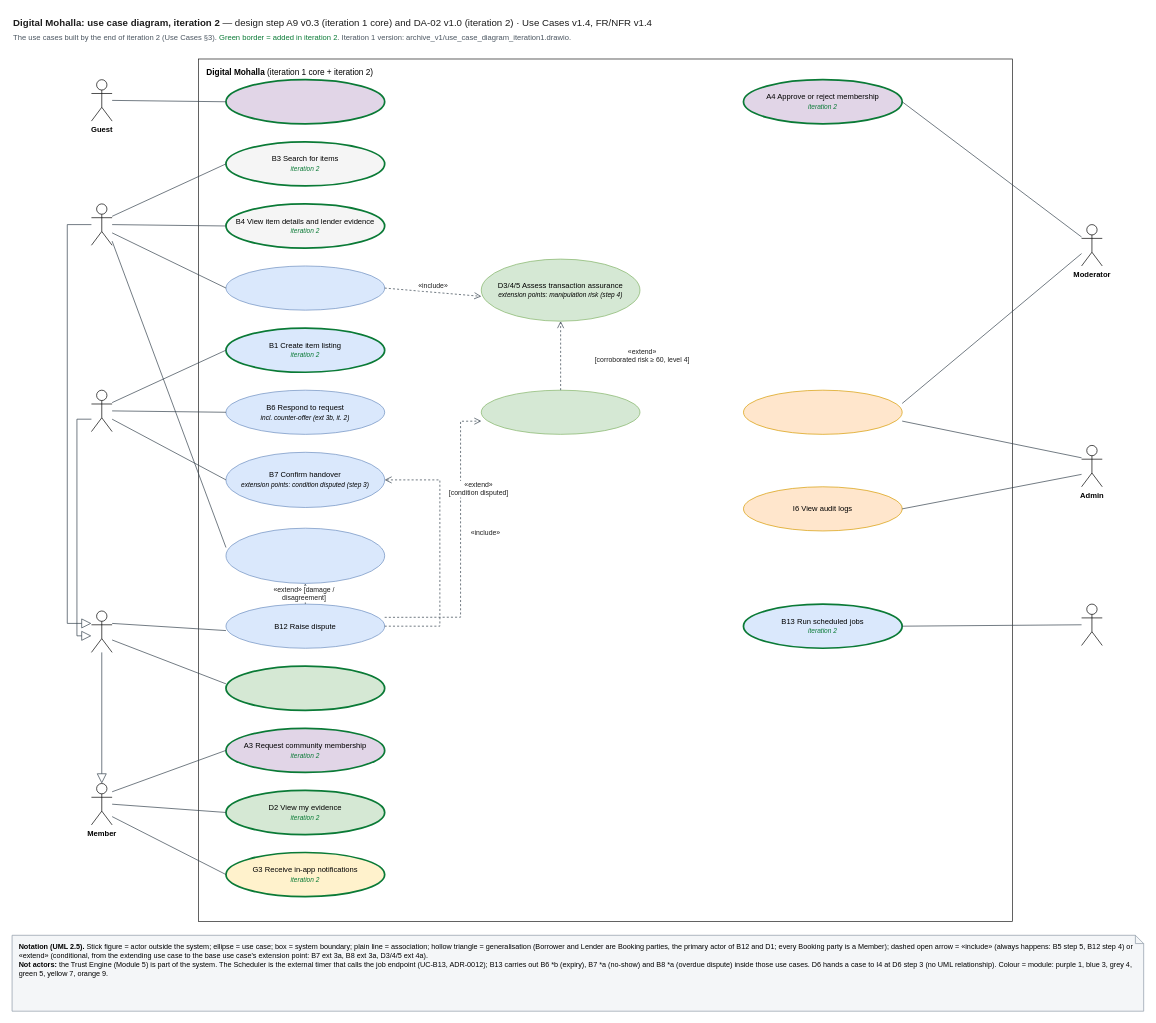
Image size: 1156x1023. Some labels were removed from this diagram. Each missing label, with the centre of its shape:
"A1 Register iteration 2" goes at (x=305, y=101).
"B5 Send borrowing request" goes at (x=305, y=287).
"B8 Return item and complete extension points: damage or disagreement (step 3)" goes at (x=305, y=555).
"Booking party {abstract}" goes at (x=101, y=631).
"Borrower" goes at (x=101, y=224).
"D1 Submit review and rating iteration 2" goes at (x=305, y=688).
"D6 Escalate case with evidence trail" goes at (x=560, y=412).
"I4 Resolve escalated case or dispute" goes at (x=822, y=412).
"Lender" goes at (x=101, y=411).
"Scheduler (timer, ADR-0012)" goes at (x=1091, y=624).
